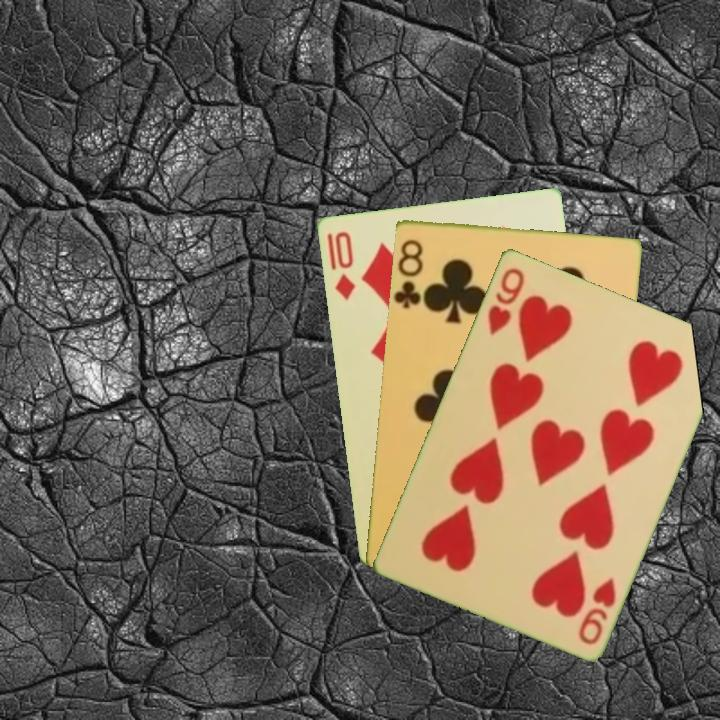10d: (323, 227, 358, 303)
8c: (391, 235, 428, 311)
9h: (574, 573, 619, 647), (483, 263, 527, 337)
